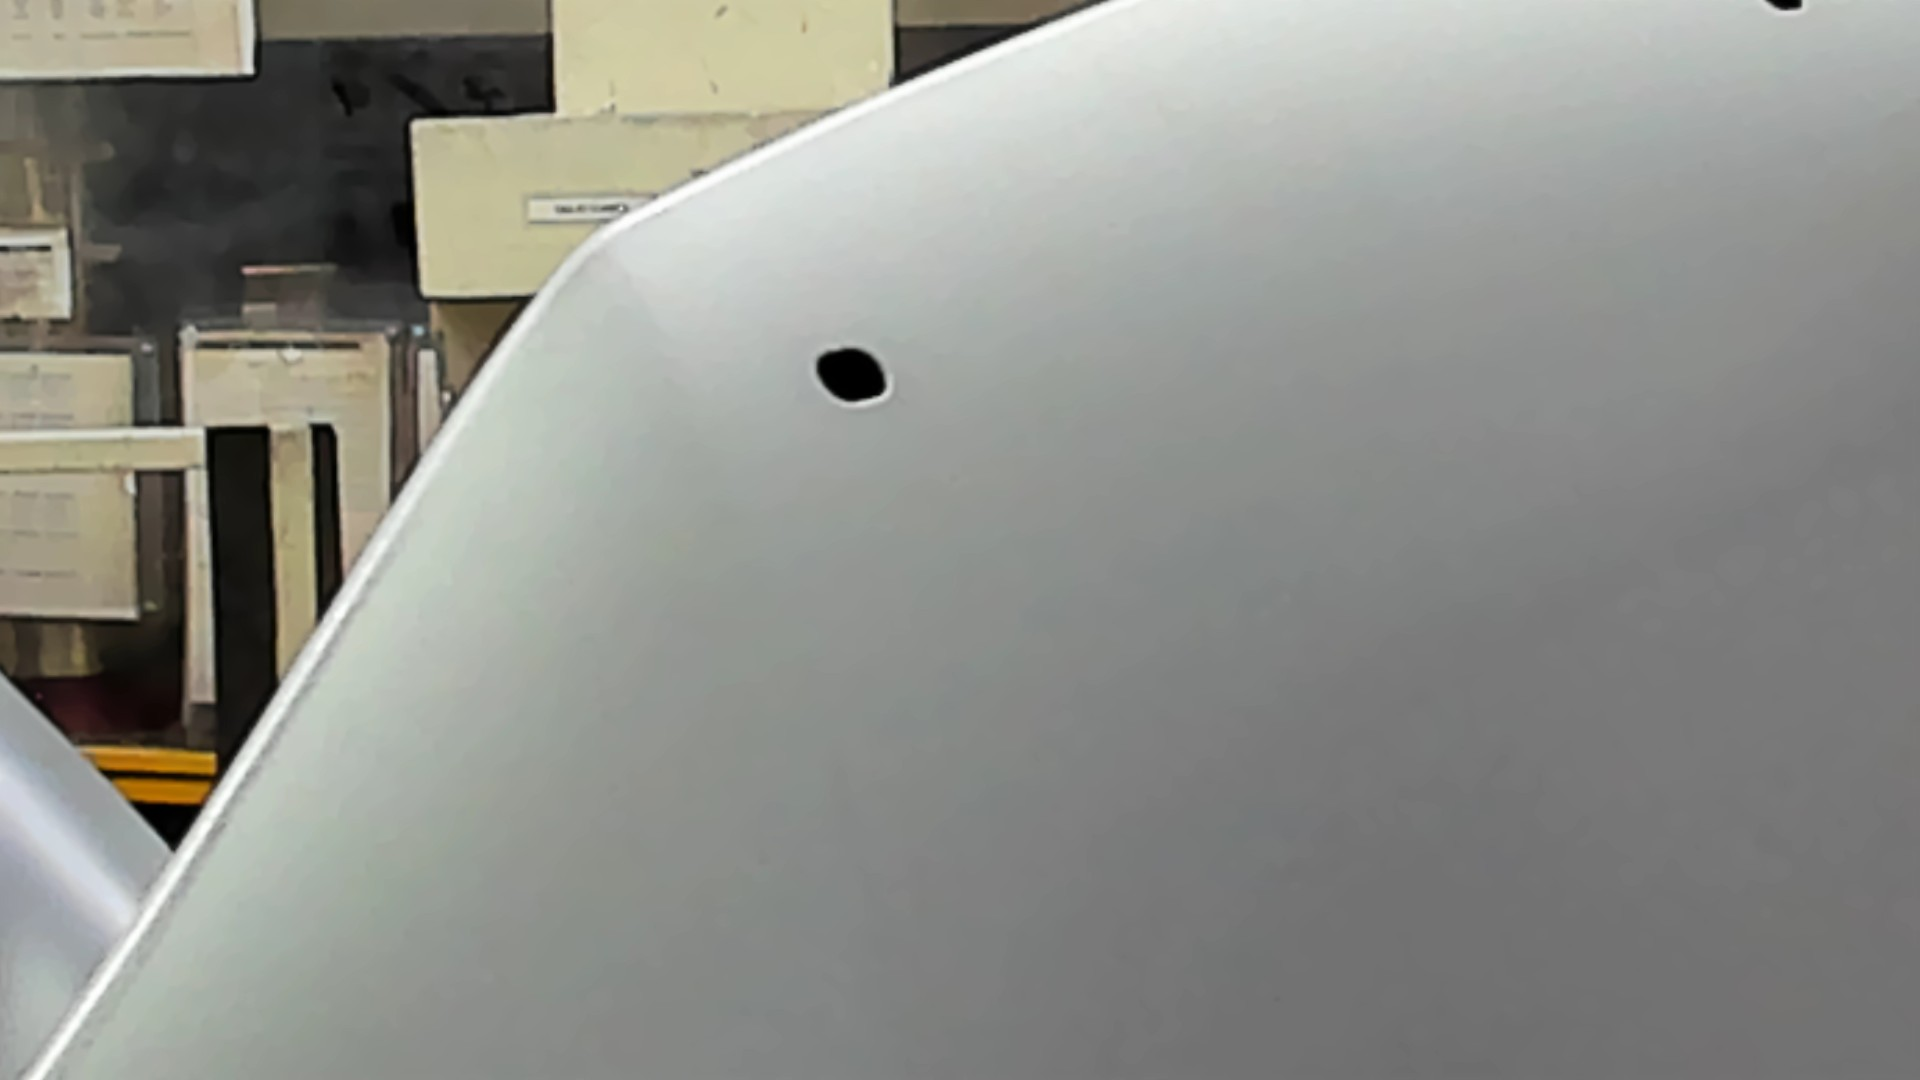amorfo: (807, 340, 895, 411), (1764, 1, 1815, 18)
